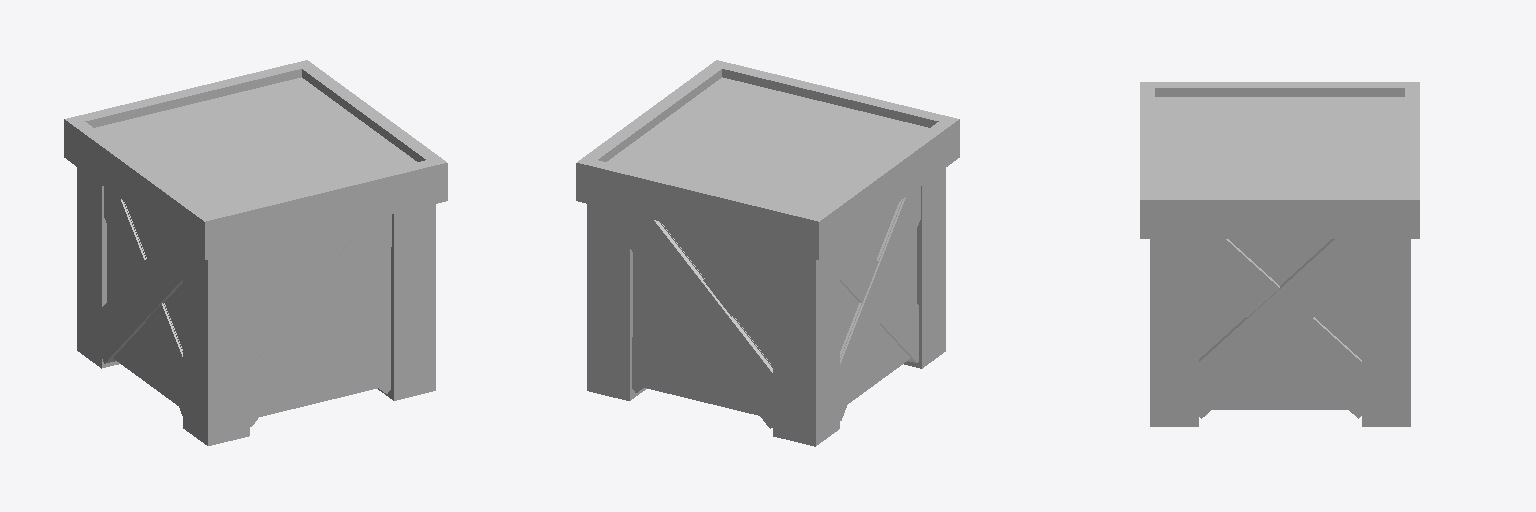
The model's file is closed crate.obj.
The picture shows the model from 3 angles: view 1: azimuth 30°, elevation 25°; view 2: azimuth 150°, elevation 25°; view 3: azimuth 270°, elevation 25°; orthographic projection.
Visible parts, largest first — view 1: Closed_big_box3; view 2: Closed_big_box3; view 3: Closed_big_box3.
Boxes of the visible parts, <box> form: Closed_big_box3: <box>64,60,447,445</box>; Closed_big_box3: <box>576,60,959,446</box>; Closed_big_box3: <box>1140,82,1419,426</box>.
Bounding box in the file's own units: 68.83 × 62.36 × 68.83.